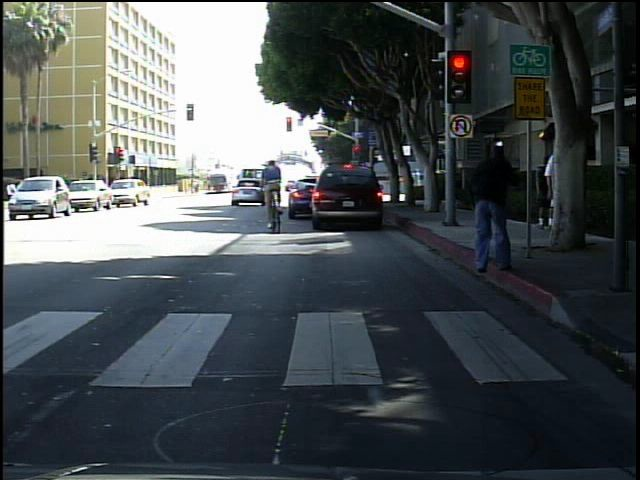person: (465, 137, 518, 278), (240, 148, 303, 223), (532, 140, 569, 243), (535, 139, 565, 245)
